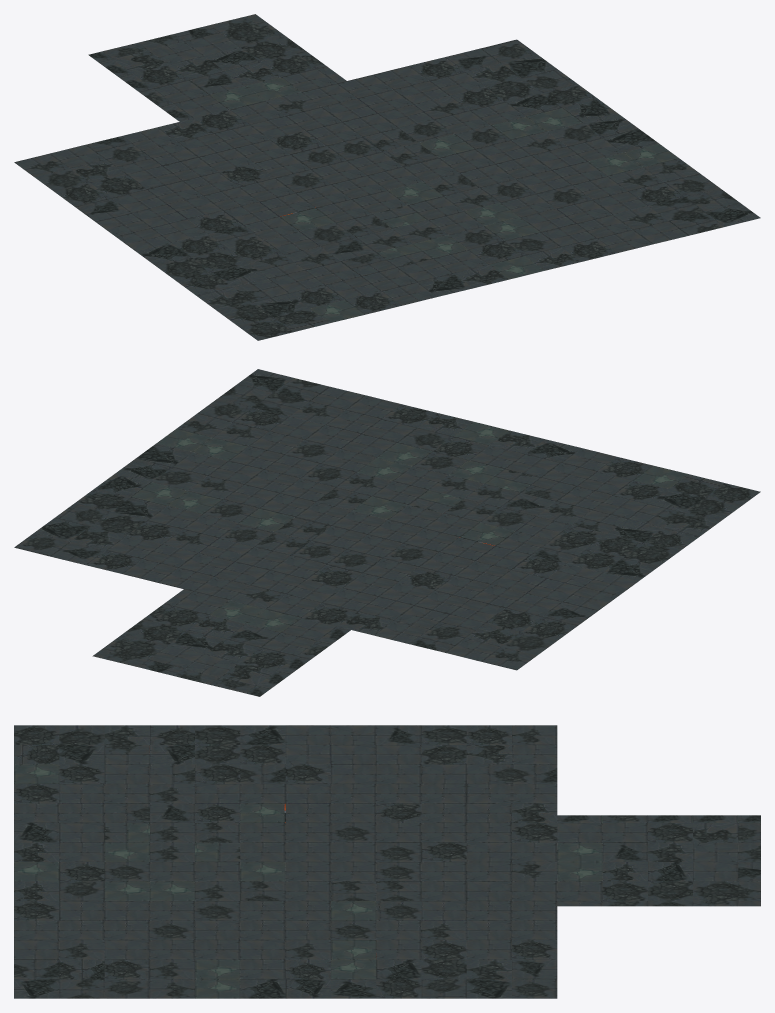
File: chnagjing_sjb_03.FBX
3 renders of one model, top to bottom at view 1: azimuth 30°, elevation 25°; view 2: azimuth 150°, elevation 25°; view 3: azimuth 270°, elevation 25°, orthographic. The views are drawn at different scales.
Parts seen in each view (by area): view 1: chnagjing_sjb_03; view 2: chnagjing_sjb_03; view 3: chnagjing_sjb_03.
Part boxes in pixels (x1=…): chnagjing_sjb_03: x1=14, y1=14, x2=760, y2=340; chnagjing_sjb_03: x1=14, y1=369, x2=760, y2=696; chnagjing_sjb_03: x1=14, y1=725, x2=760, y2=998.
Size of the model in its own units: 2138 by 2470 by 0.4967.
